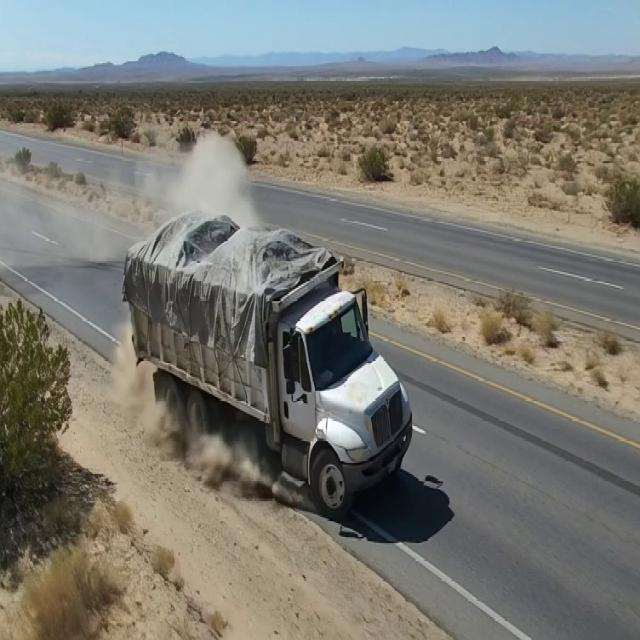trailer: (108, 211, 352, 296)
truck: (100, 199, 437, 483)
